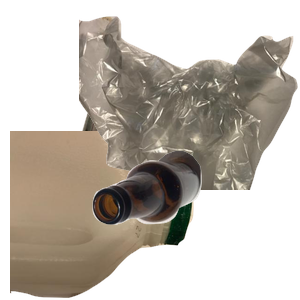glass: (90, 148, 300, 300)
metal: (60, 47, 300, 227)
plastic: (10, 131, 196, 300)
trash: (79, 14, 300, 194)
